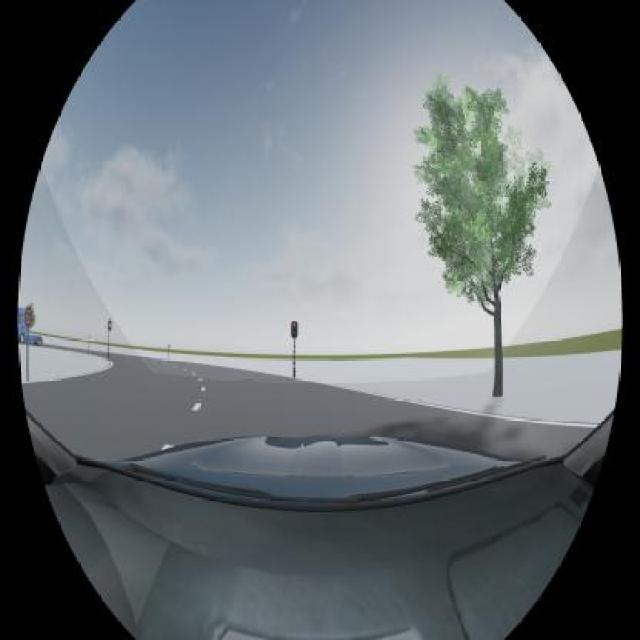forb_speed_over_70: (24, 307, 31, 325)
